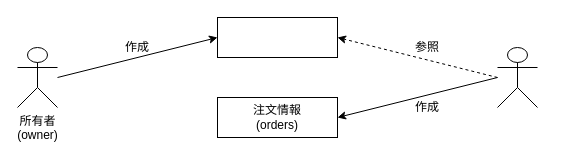
Some shapes in this 563 by 161 pixel diagram are drawn without their labels. Here are the shapes that lost their labels. From the top down, the centre of each, then its label:
At (x=277, y=37): "商品情報 (products)".
At (x=517, y=77): "顧客 (customer)".
